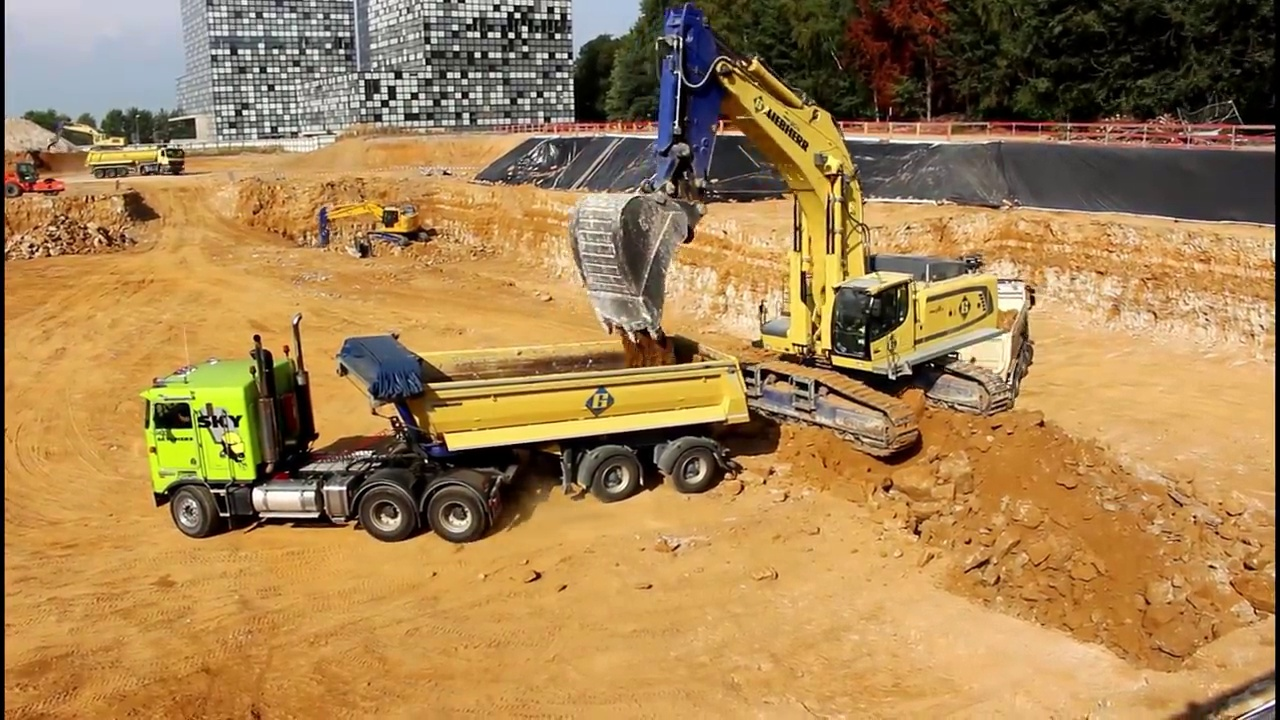compactor: (4, 162, 70, 202)
excavator: (567, 6, 1016, 464), (308, 192, 440, 261), (56, 116, 128, 158)
truck: (135, 310, 756, 550), (921, 264, 1047, 395), (83, 143, 191, 185)
